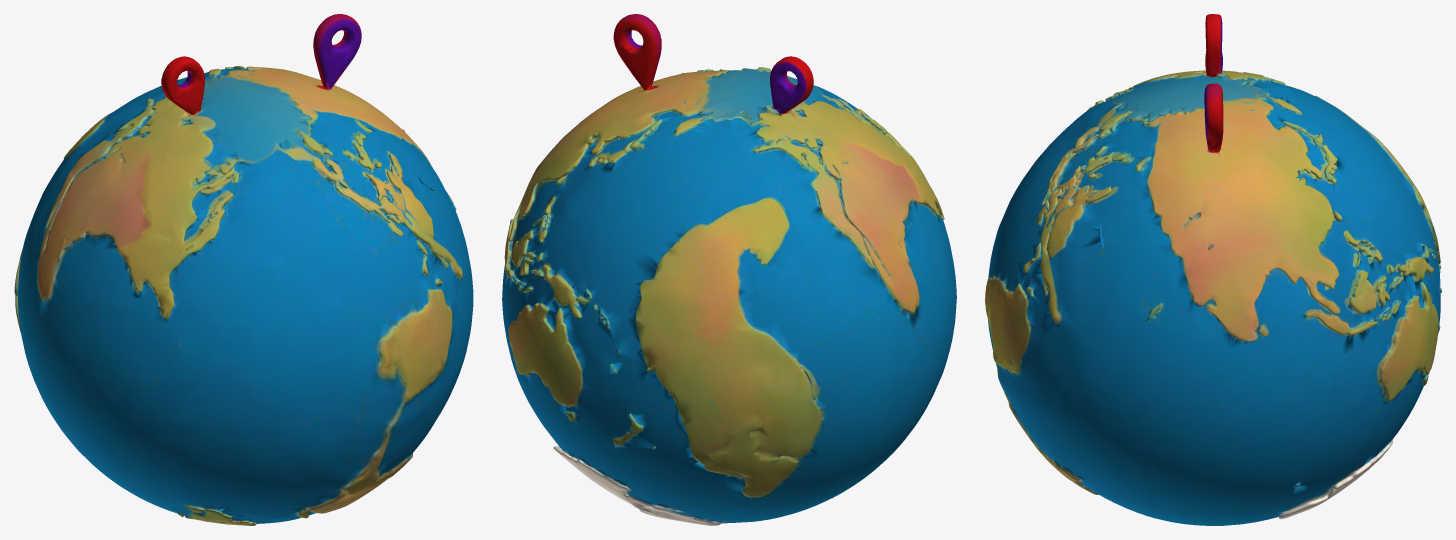
File: globe-360.glb
3 views of the same model, side by side, from view 1: azimuth 30°, elevation 25°; view 2: azimuth 150°, elevation 25°; view 3: azimuth 270°, elevation 25° (orthographic).
Bounding box in the file's own units: 1.67 × 1.9 × 1.68.
Materials: 1 (1 with a texture image).
